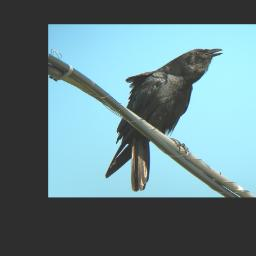Crow: (104, 47, 224, 193)
